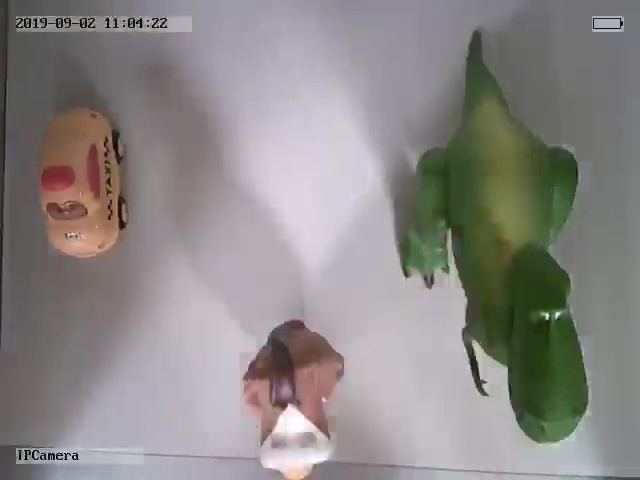car: (38, 106, 129, 259)
horse: (239, 317, 346, 480)
rex: (398, 44, 591, 443)
